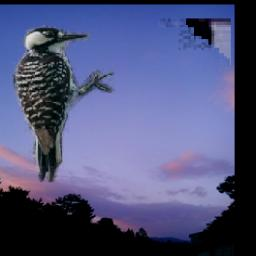Crow: (153, 18, 232, 256)
Woodpecker: (11, 26, 116, 183)
